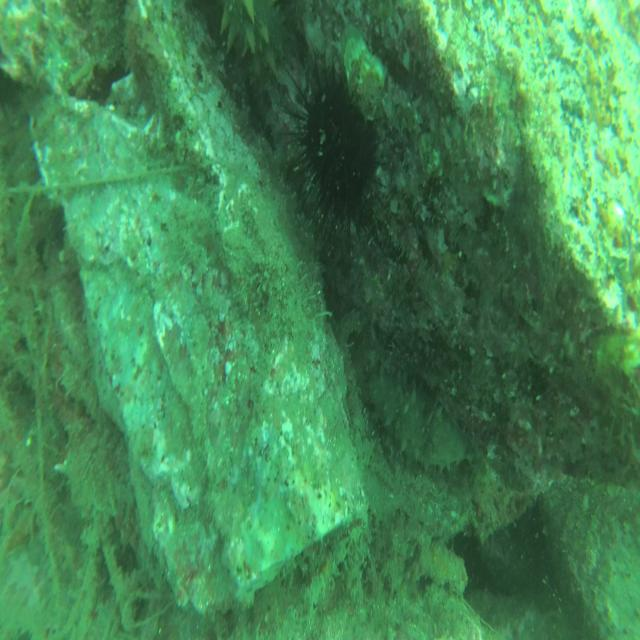echinus: (281, 57, 390, 240)
holothurian: (223, 0, 293, 80)
